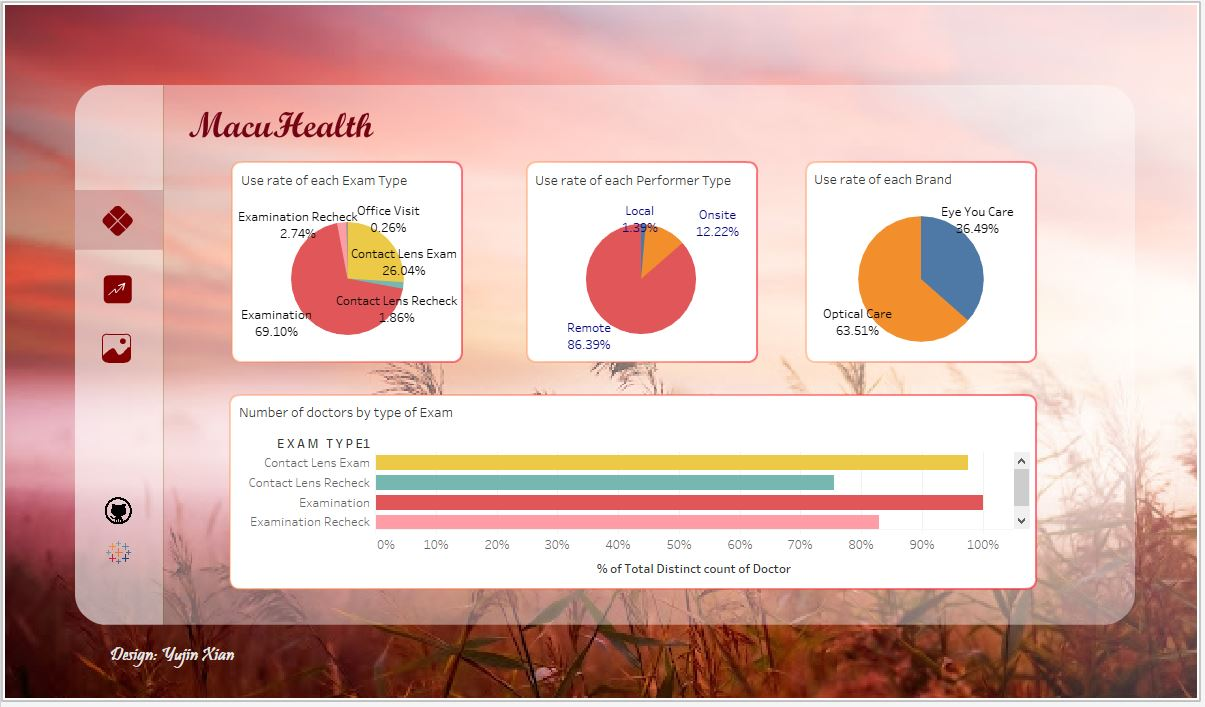

This screenshot's page, from the dashboard's own definition file:
{"tool":"tableau","page":{"name":"MAIN ANALYSIS","canvas":[1200,700],"ordinal":0},"visuals":[{"type":"image","param":"E:/My Study/tableau/dashboard/Frist_background.png","box":[0,0,1200,701]},{"type":"worksheet","title":"Use rate of each Brand","mark":"Pie","box":[805,161,230,201]},{"type":"worksheet","title":"Use rate of each Exam Type","mark":"Pie","box":[232,162,229,198]},{"type":"worksheet","title":"Use rate of each Performer Type","mark":"Pie","box":[526,162,228,199]},{"type":"dashboard-object","box":[73,189,89,59]},{"type":"dashboard-object","box":[74,256,88,62]},{"type":"dashboard-object","box":[74,323,87,48]},{"type":"worksheet","title":"Number of doctors by type of Exam","mark":"Bar","rows":["E X A M   T Y P E"],"cols":["Doctor"],"box":[230,394,803,193]},{"type":"image","param":"E:/My Study/tableau/dashboard/Transpert.png","box":[74,488,87,43]},{"type":"image","param":"E:/My Study/tableau/dashboard/Transpert.png","box":[74,537,87,35]},{"type":"text","box":[102,634,160,43]}]}

Visuals, with their boxes in screenshot pixels (x1, y1, x2, y2), scaled from the page's 1200x700 canvas onto the 1205x707 screenshot:
image: bbox=[0, 0, 1204, 706]
"Use rate of each Brand" worksheet (Pie marks): bbox=[808, 163, 1039, 366]
"Use rate of each Exam Type" worksheet (Pie marks): bbox=[233, 164, 463, 364]
"Use rate of each Performer Type" worksheet (Pie marks): bbox=[528, 164, 757, 365]
dashboard-object: bbox=[73, 191, 163, 250]
dashboard-object: bbox=[74, 259, 163, 321]
dashboard-object: bbox=[74, 326, 162, 375]
"Number of doctors by type of Exam" worksheet (Bar marks): bbox=[231, 398, 1037, 593]
image: bbox=[74, 493, 162, 536]
image: bbox=[74, 542, 162, 578]
text: bbox=[102, 640, 263, 684]
